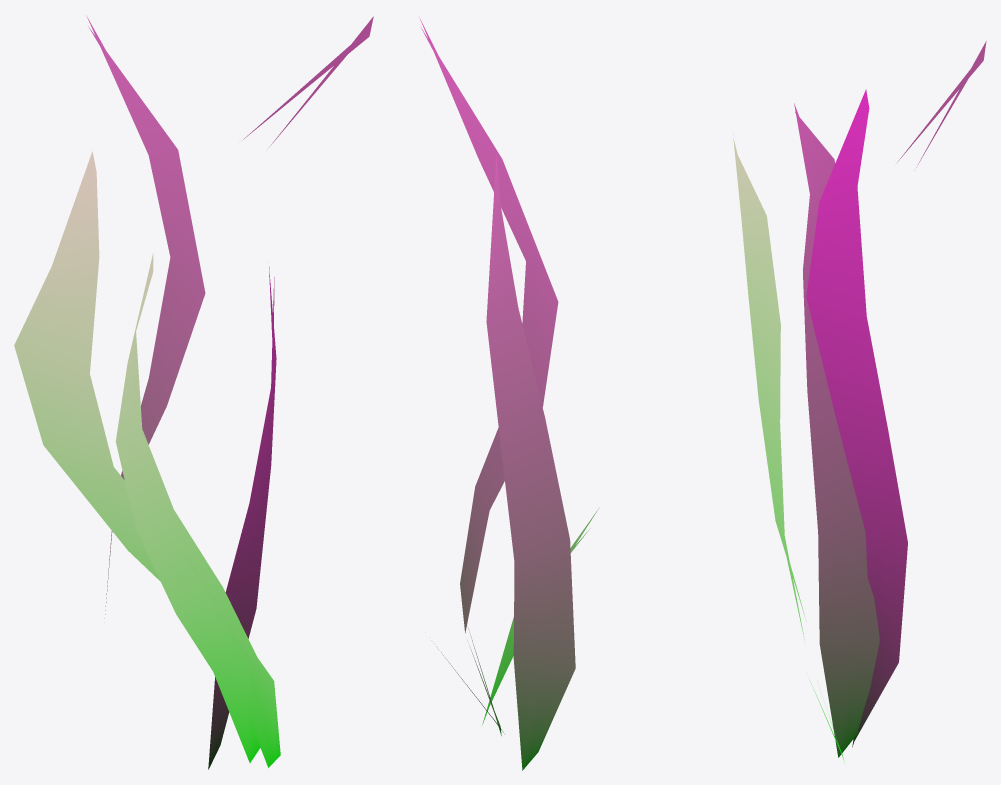
The model's file is seaweed_a_lod.glb.
3 renders of one model, left to right at view 1: azimuth 30°, elevation 25°; view 2: azimuth 150°, elevation 25°; view 3: azimuth 270°, elevation 25°, orthographic. The views are drawn at different scales.
Parts seen in each view (by area): view 1: Sea_A_LOD; view 2: Sea_A_LOD; view 3: Sea_A_LOD.
Boxes of the visible parts, x1,y1,x2,y2 form: Sea_A_LOD: (14, 15, 373, 769); Sea_A_LOD: (419, 18, 599, 770); Sea_A_LOD: (732, 41, 986, 761).
Size of the model in its own units: 0.8317 by 1.8 by 0.5842.
